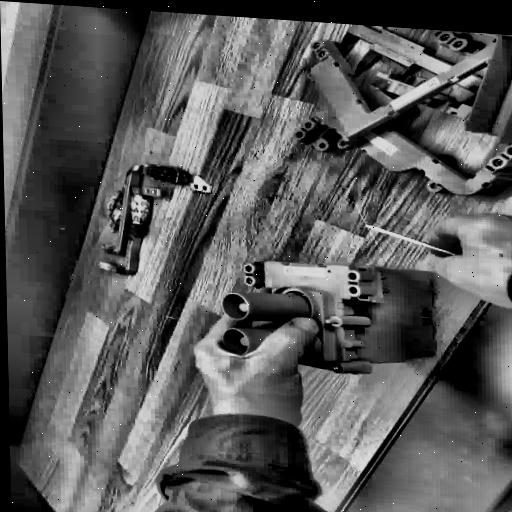busbar: (86, 145, 218, 283)
connector: (225, 246, 443, 394)
